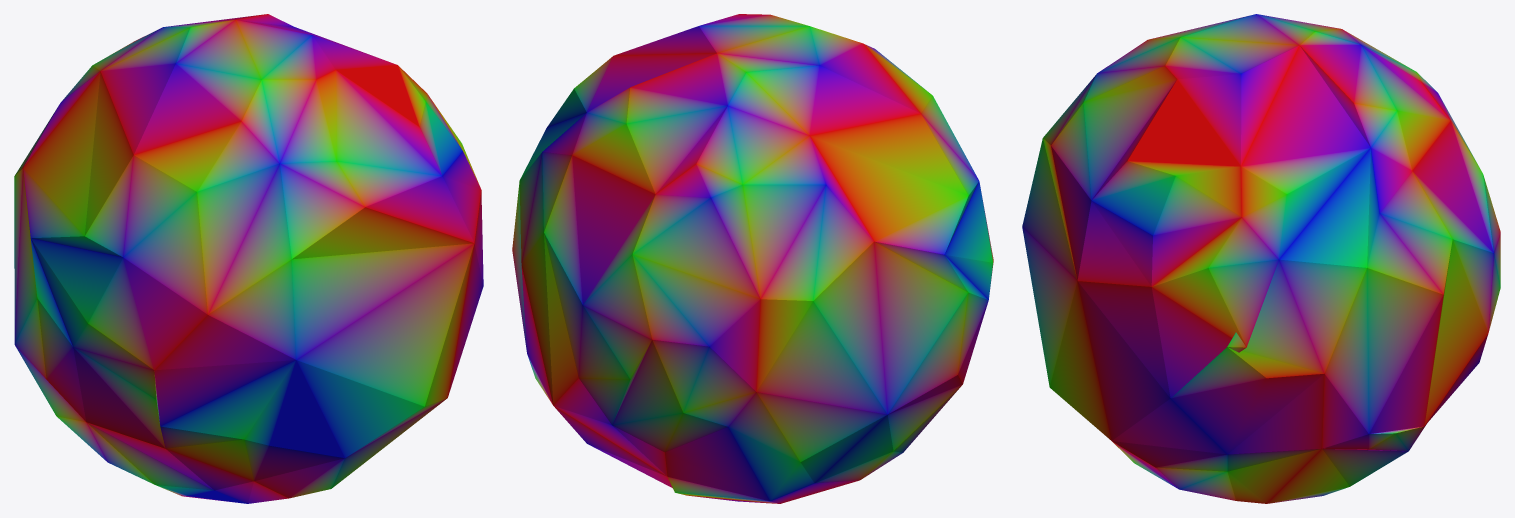
File: after_decimating_reconquest_3.obj
3 renders of one model, left to right at view 1: azimuth 30°, elevation 25°; view 2: azimuth 150°, elevation 25°; view 3: azimuth 270°, elevation 25°, orthographic.
Size of the model in its own units: 1.99 by 1.98 by 1.94.
